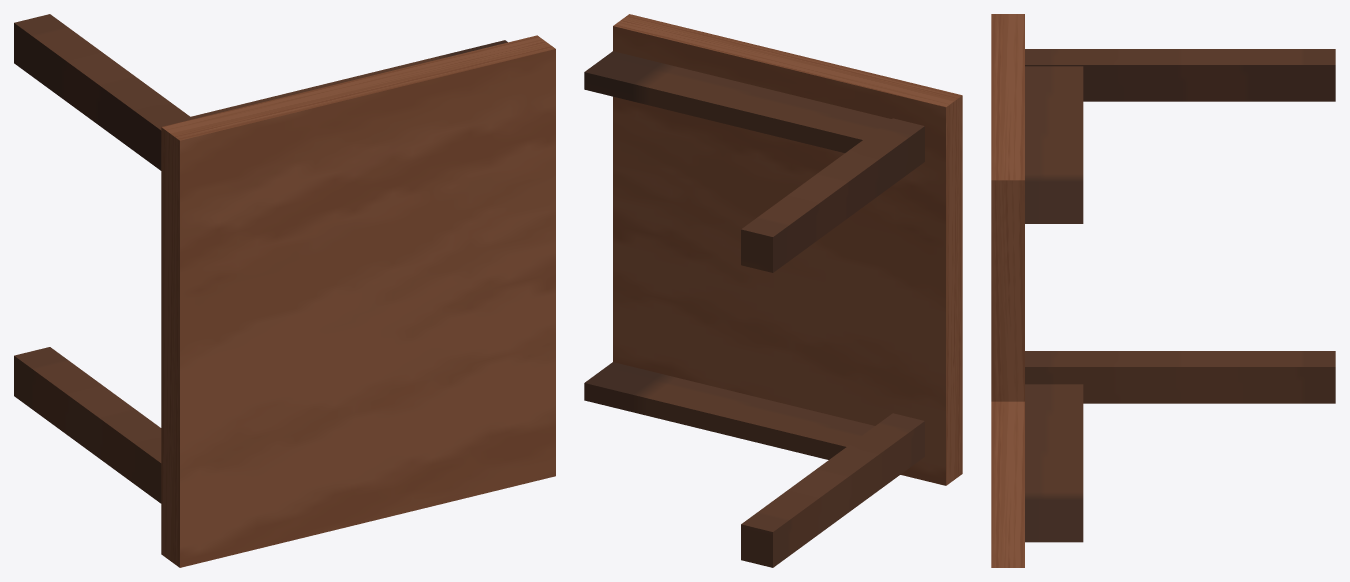
The model's file is pz_table_tables_high_02_long_dark_oak_0_0.obj.
3 views of the same model, side by side, from view 1: azimuth 30°, elevation 25°; view 2: azimuth 150°, elevation 25°; view 3: azimuth 270°, elevation 25° (orthographic). The views are drawn at different scales.
Bounding box in the file's own units: 0.875 × 0.95 × 0.7655.
Materials: 1 (1 with a texture image).
